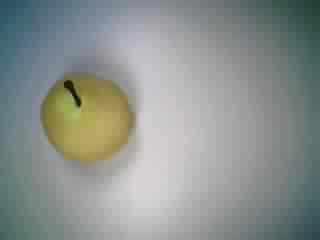pear: (28, 60, 146, 168)
